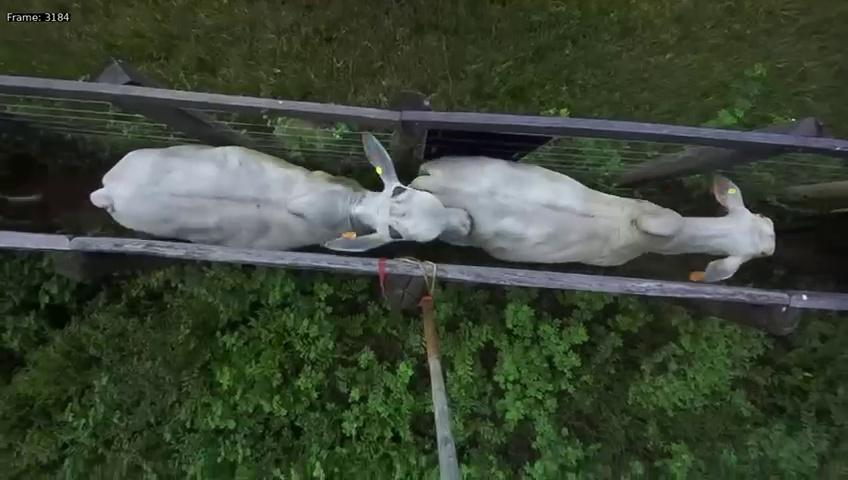cattle: (83, 119, 475, 258), (405, 144, 784, 286)
